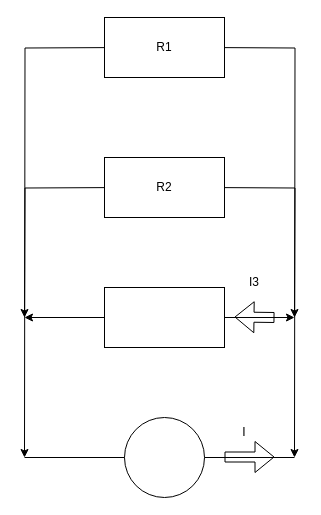
Image size: 321x515. Some labels were removed from this diagram. Each missing label, with the box of its shape:
E, r: (124, 416, 204, 498)
R3: (104, 286, 224, 348)
